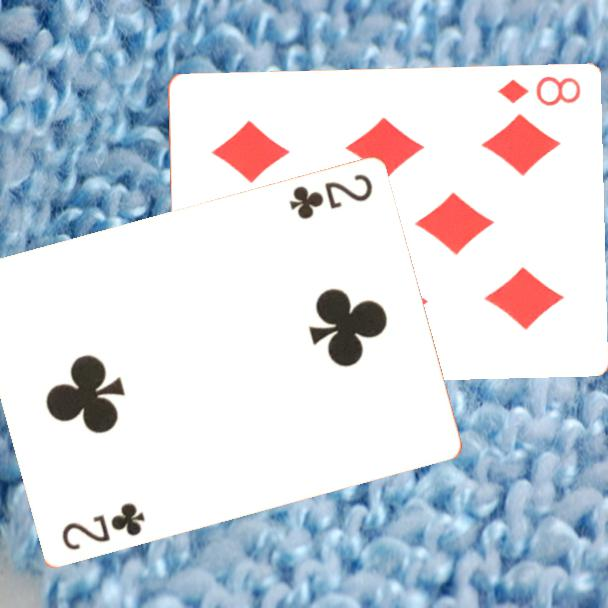c02: (58, 498, 149, 553), (286, 169, 376, 222)
d08: (493, 73, 583, 110)
